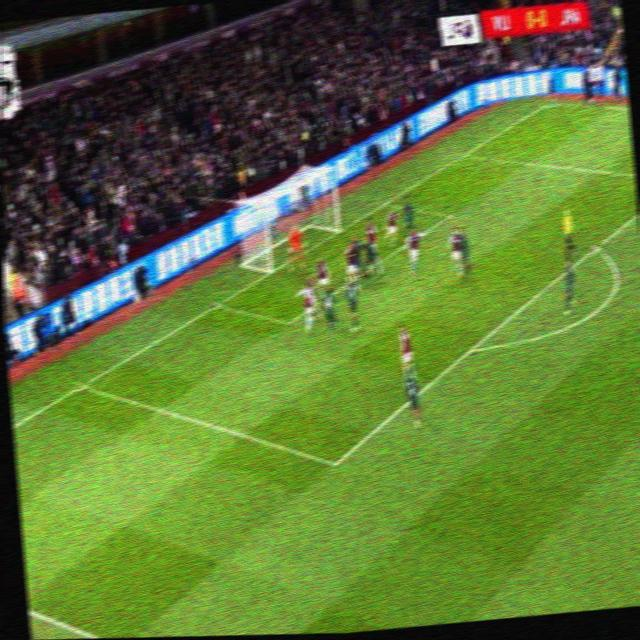bigarea_bottom_inner: (326, 450, 344, 476)
bigarea_bottom_outter: (76, 377, 90, 393)
bigarea_top_outter: (461, 147, 470, 159)
bottom_arc_area_intersection: (465, 339, 481, 359)
corner: (545, 98, 558, 107)
smallarea_bottom_inner: (280, 312, 295, 331)
smallarea_bottom_outter: (210, 294, 226, 312)
smallarea_top_inner: (443, 206, 455, 222)
smallarea_top_outter: (380, 196, 394, 210)
top_arc_area_intersection: (590, 240, 602, 254)
